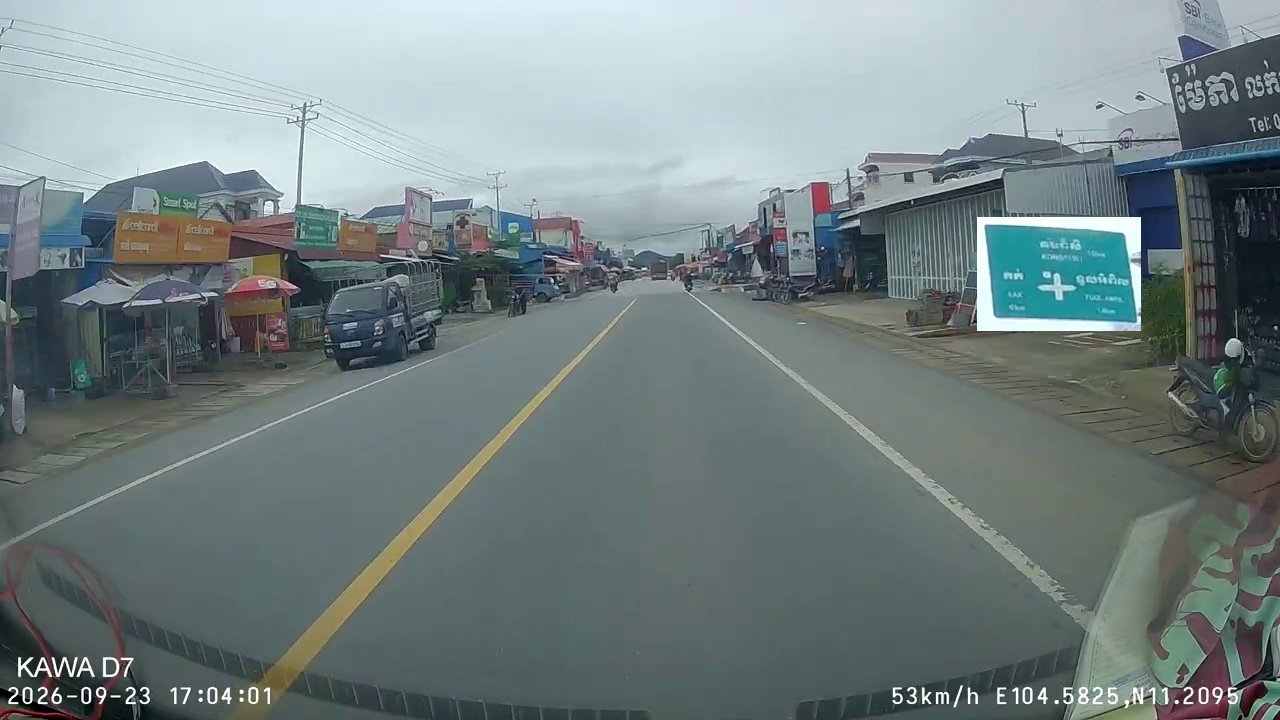direction_sign: (977, 217, 1141, 331)
